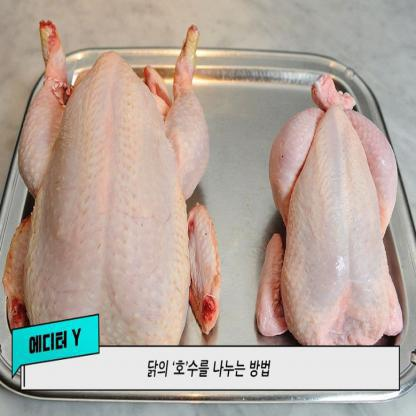chicken: (3, 11, 224, 362), (260, 71, 404, 348)
